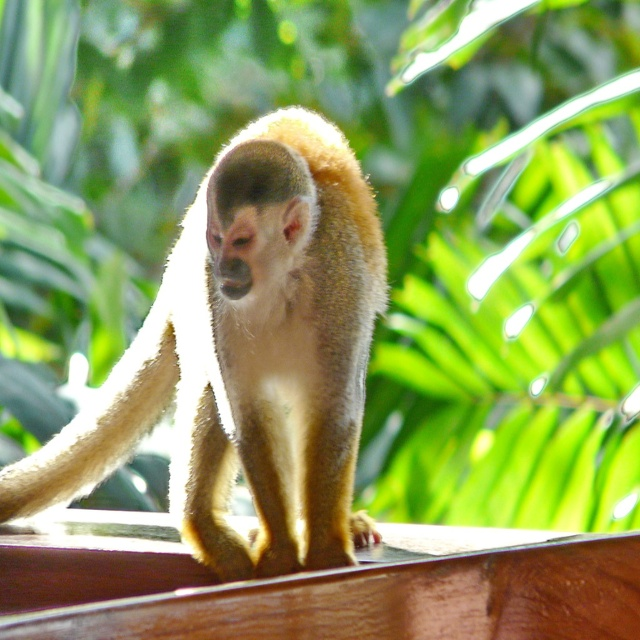Monkey: (1, 104, 395, 583)
